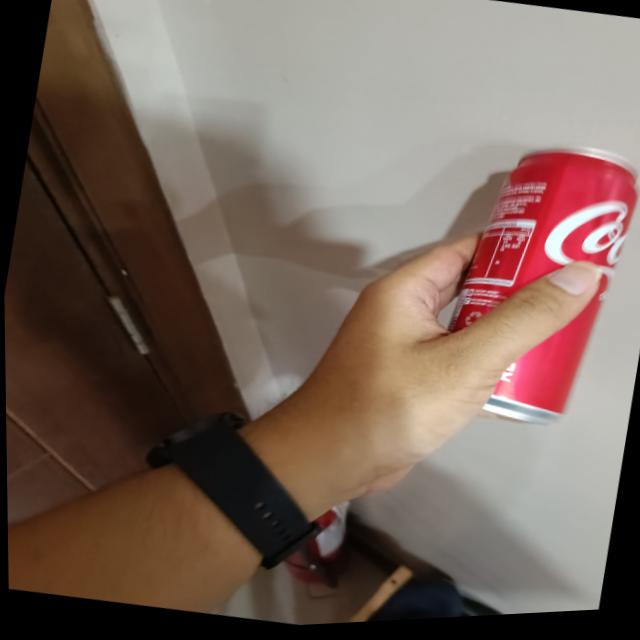coke: (416, 130, 640, 446)
